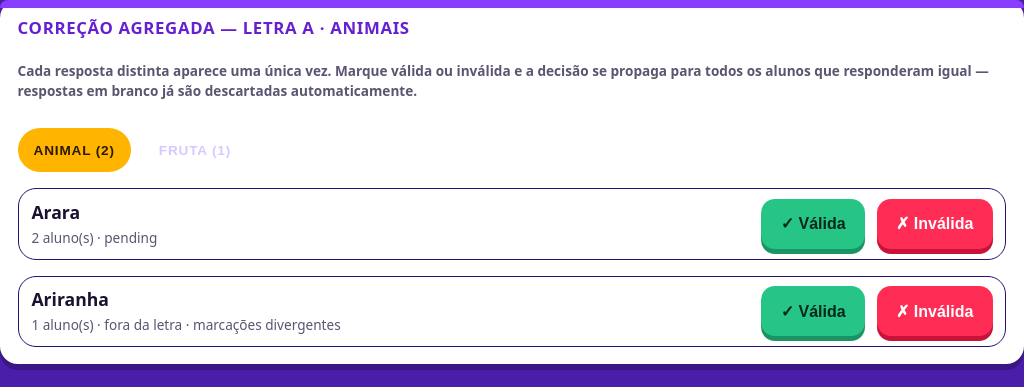
Test: GroupedCorrectionPanel › switches tabs on click
The image size is (1024, 387).
Click the tab "Fruta (1)" at (195, 150), box x1=143 y1=128 x2=247 y2=172
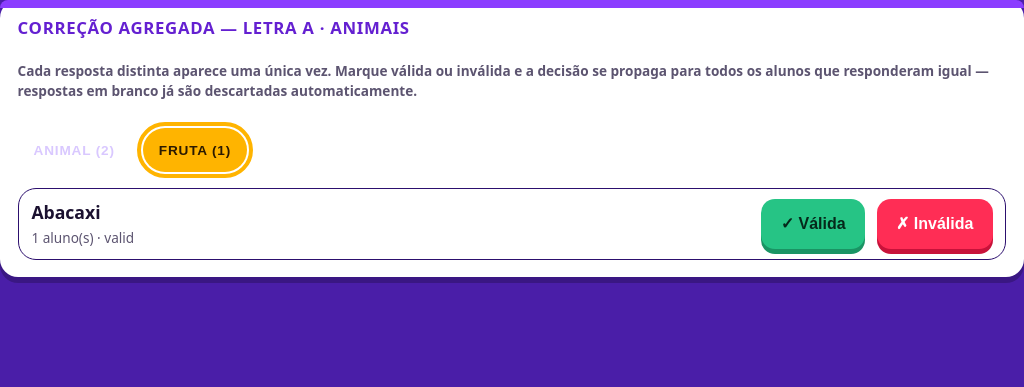
Expected: the text "Abacaxi" is shown, x1=31 y1=200 x2=100 y2=224
Expected: the text "Arara" is gone
